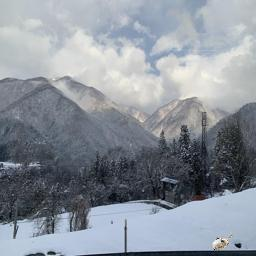Sparrow: (212, 234, 234, 251)
